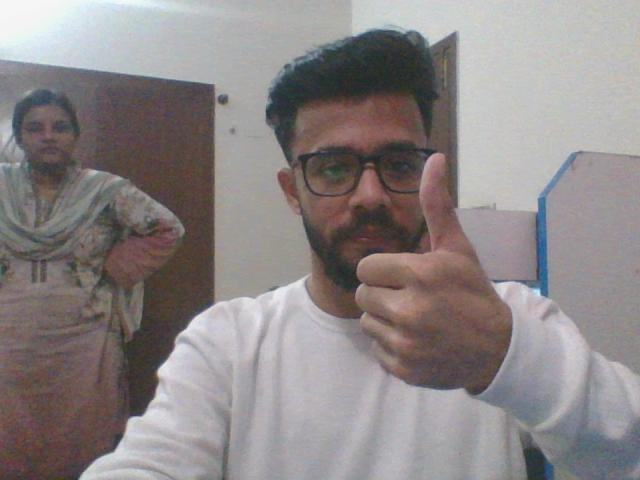thumbs-up: (352, 153, 499, 399)
